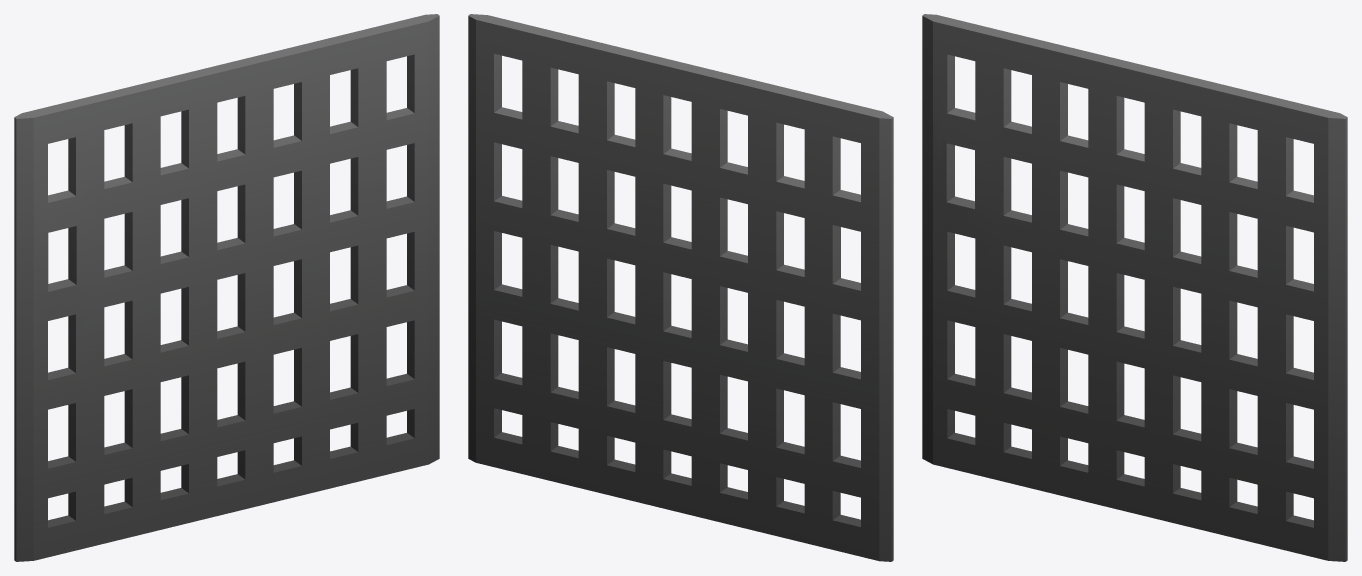
File: geo_chainLinkFence.fbx
3 renders of one model, left to right at view 1: azimuth 30°, elevation 25°; view 2: azimuth 150°, elevation 25°; view 3: azimuth 330°, elevation 25°, orthographic.
Visible parts, largest first — view 1: geo_chainLinkFence; view 2: geo_chainLinkFence; view 3: geo_chainLinkFence.
Part boxes in pixels (x1,y1,x2,y2): geo_chainLinkFence: [14, 14, 439, 561]; geo_chainLinkFence: [468, 14, 893, 561]; geo_chainLinkFence: [922, 14, 1347, 561].
Bounding box in the file's own units: 400 × 400 × 13.35.
Materials: 1 (1 with a texture image).
